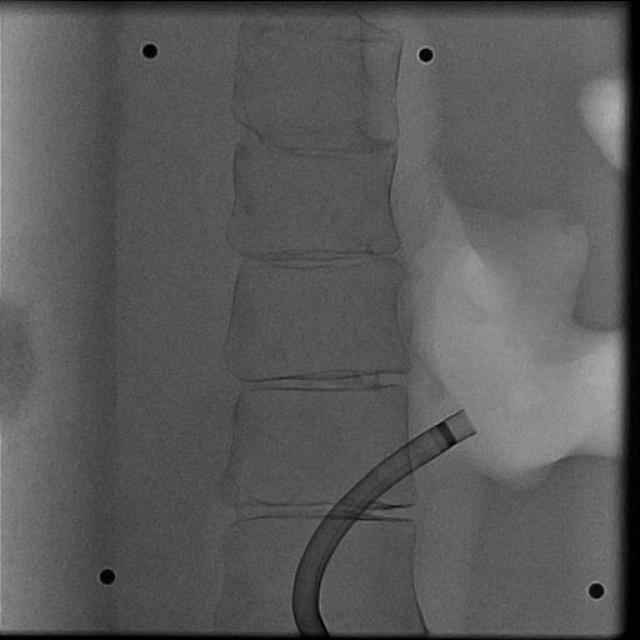bend: (292, 595, 318, 614)
entry: (299, 628, 329, 637)
marker: (437, 422, 458, 448)
tip: (462, 411, 480, 433)
